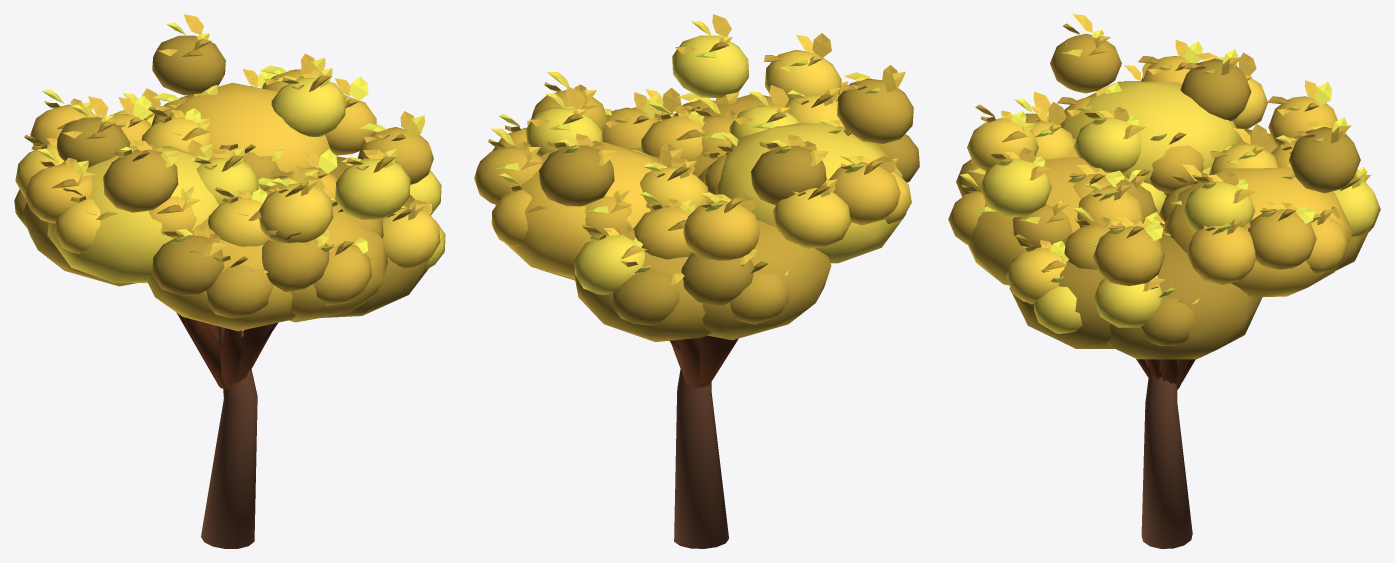
File: gold-tree-D3T3Y6ed.glb
The picture shows the model from 3 angles, left to right: view 1: azimuth 30°, elevation 25°; view 2: azimuth 150°, elevation 25°; view 3: azimuth 270°, elevation 25°; orthographic projection. The views are drawn at different scales.
Parts seen in each view (by area): view 1: canopy, gold-tree; view 2: canopy, gold-tree; view 3: canopy, gold-tree.
Boxes of the visible parts, x1,y1,x2,y2 form: canopy: (14,14,445,331); gold-tree: (176,312,277,548); canopy: (474,14,919,341); gold-tree: (669,335,738,548); canopy: (948,14,1380,359); gold-tree: (1136,359,1195,548).
Bounding box in the file's own units: 5.3 × 6.1 × 5.3.
